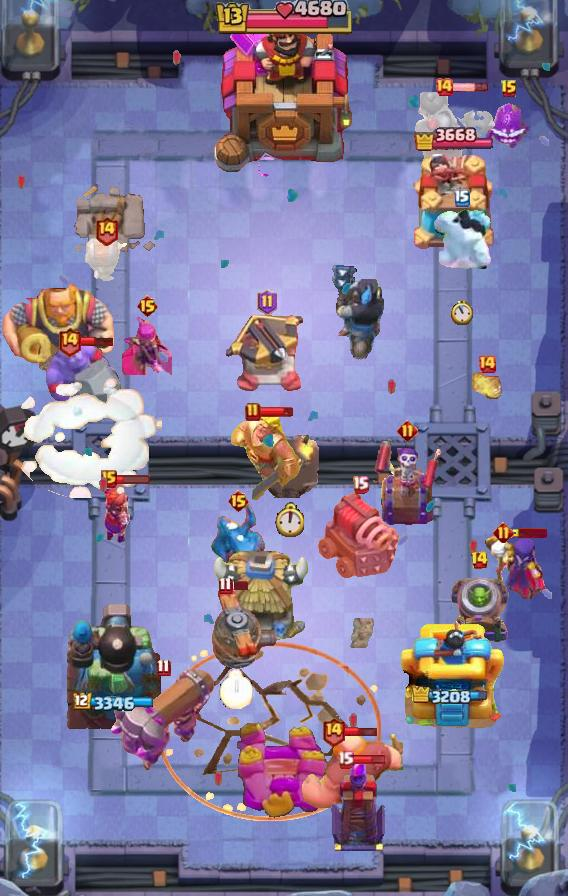archer-queen: (46, 338, 128, 422)
axe: (484, 533, 548, 599)
baby-dragon: (260, 434, 319, 497)
balloon: (299, 728, 403, 828)
clock: (213, 0, 355, 38)
dark-prince: (191, 586, 281, 670)
elixir: (219, 669, 253, 709), (274, 503, 304, 537), (451, 299, 473, 324)
emote: (343, 725, 378, 738), (258, 406, 294, 418), (452, 82, 489, 93), (79, 336, 115, 347), (115, 474, 151, 485), (350, 754, 385, 765), (511, 528, 547, 538), (230, 581, 250, 592)
evolution-symbol: (122, 313, 172, 375)
fisherman: (344, 618, 376, 648)
furnace: (109, 665, 217, 775)
giant-skeleton: (0, 278, 116, 378)
goblin-cage: (447, 575, 511, 645)
goblin-hut: (228, 408, 304, 504)
golem: (317, 490, 403, 582)
graveyard: (209, 503, 267, 577)
guard: (158, 642, 382, 821)
ice-spirit-evolution: (469, 370, 505, 402)
ice-spirit-evolution-symbol: (329, 757, 389, 853)
inferno-dragon: (329, 261, 387, 361)
king-tower: (211, 7, 357, 181)
knight: (80, 236, 132, 282)
lava-pup: (226, 315, 308, 395)
prince: (209, 551, 311, 647)
queen-tower: (399, 617, 507, 731), (405, 154, 501, 256)
rage: (430, 208, 494, 276)
royal-guardian: (414, 89, 500, 171)
selected: (414, 125, 494, 155), (72, 691, 155, 713), (412, 686, 494, 708)
skeleton-king-bar: (373, 441, 441, 527)
spear-goblin: (485, 101, 533, 153)
tesla-evolution: (97, 476, 141, 544)
text: (94, 214, 119, 245), (57, 326, 82, 357), (321, 716, 346, 747), (257, 289, 279, 315), (136, 294, 159, 318), (226, 489, 249, 513), (493, 521, 515, 543), (398, 420, 419, 441), (434, 77, 454, 97), (477, 354, 497, 374), (470, 550, 489, 570), (500, 79, 518, 99), (351, 475, 369, 494), (337, 750, 355, 769), (245, 402, 261, 422), (454, 189, 470, 207), (101, 470, 117, 488), (156, 659, 171, 678), (218, 577, 233, 595)
tower-bar: (64, 601, 164, 731)
wall-breaker: (10, 376, 162, 498)
